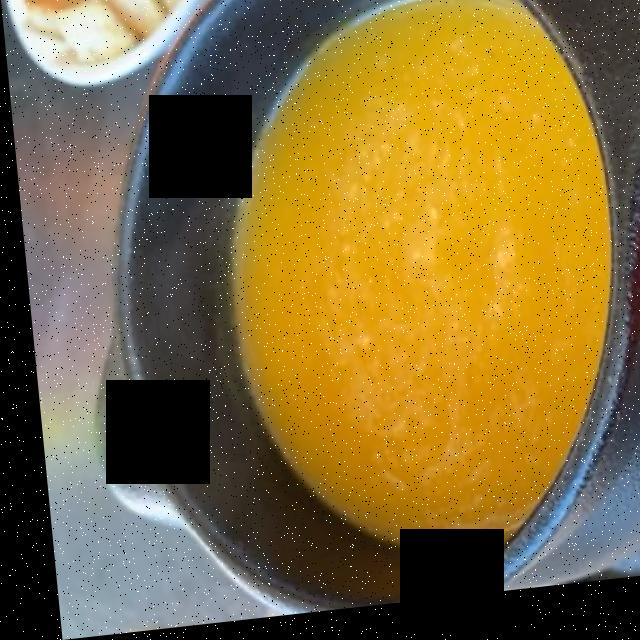soup-pumpkin: (230, 7, 609, 574)
